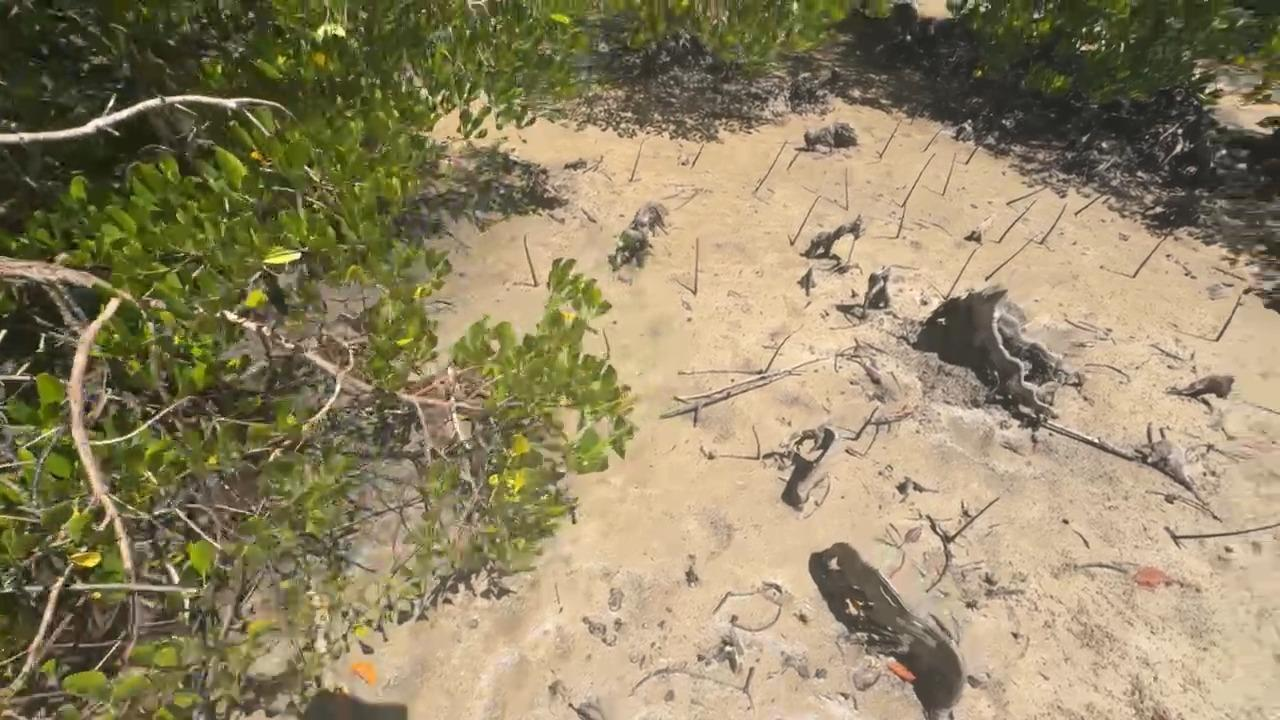Tree: (945, 497, 1002, 544), (986, 235, 1037, 282), (1133, 230, 1174, 277), (1173, 523, 1280, 540), (902, 154, 935, 209), (944, 247, 979, 298), (753, 141, 787, 193), (999, 200, 1036, 243), (1074, 183, 1121, 216), (791, 195, 820, 245), (1216, 295, 1241, 343), (1040, 203, 1067, 244), (765, 336, 791, 373), (1006, 185, 1051, 205), (856, 404, 880, 441), (523, 235, 540, 287), (879, 120, 902, 158), (966, 133, 989, 165), (942, 151, 957, 195), (630, 139, 644, 182), (751, 425, 764, 459), (923, 128, 943, 150), (788, 147, 803, 170), (690, 145, 704, 167), (896, 205, 905, 238), (694, 237, 699, 296), (602, 329, 611, 361), (844, 168, 849, 210), (910, 108, 918, 124)
